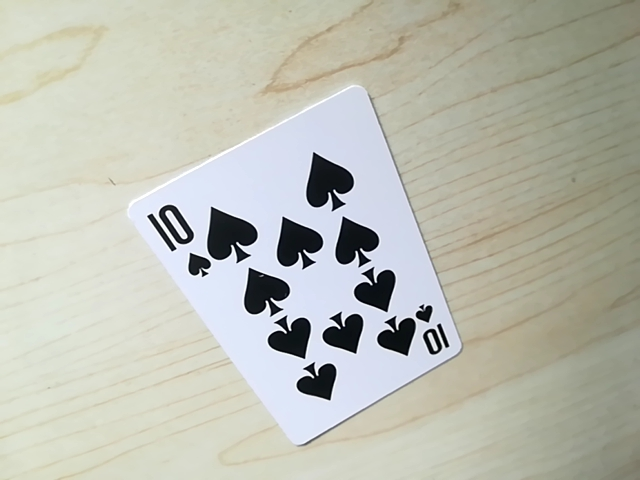ht 10: (144, 198, 200, 270), (407, 313, 452, 361)
